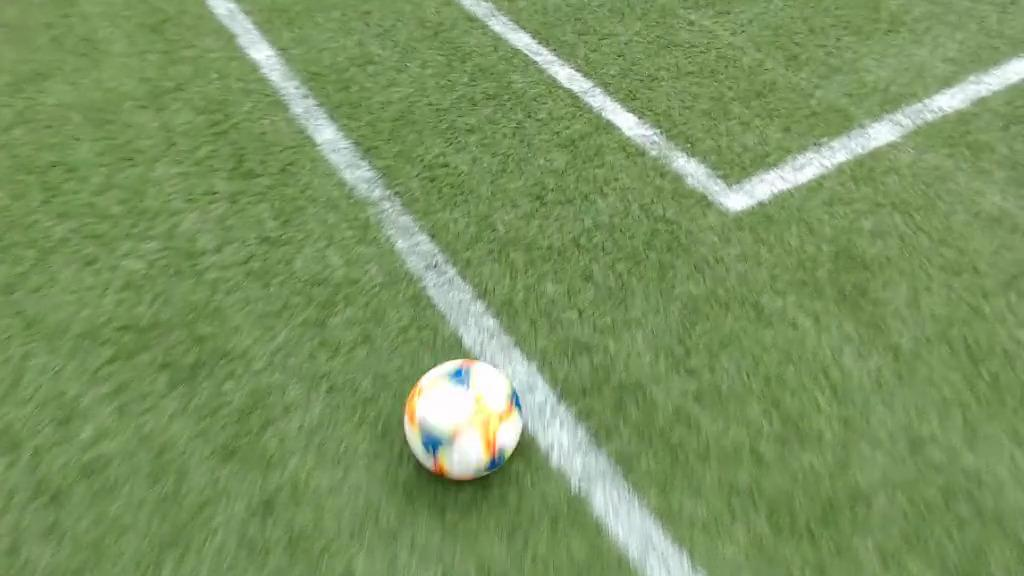ball: (404, 362, 522, 482)
